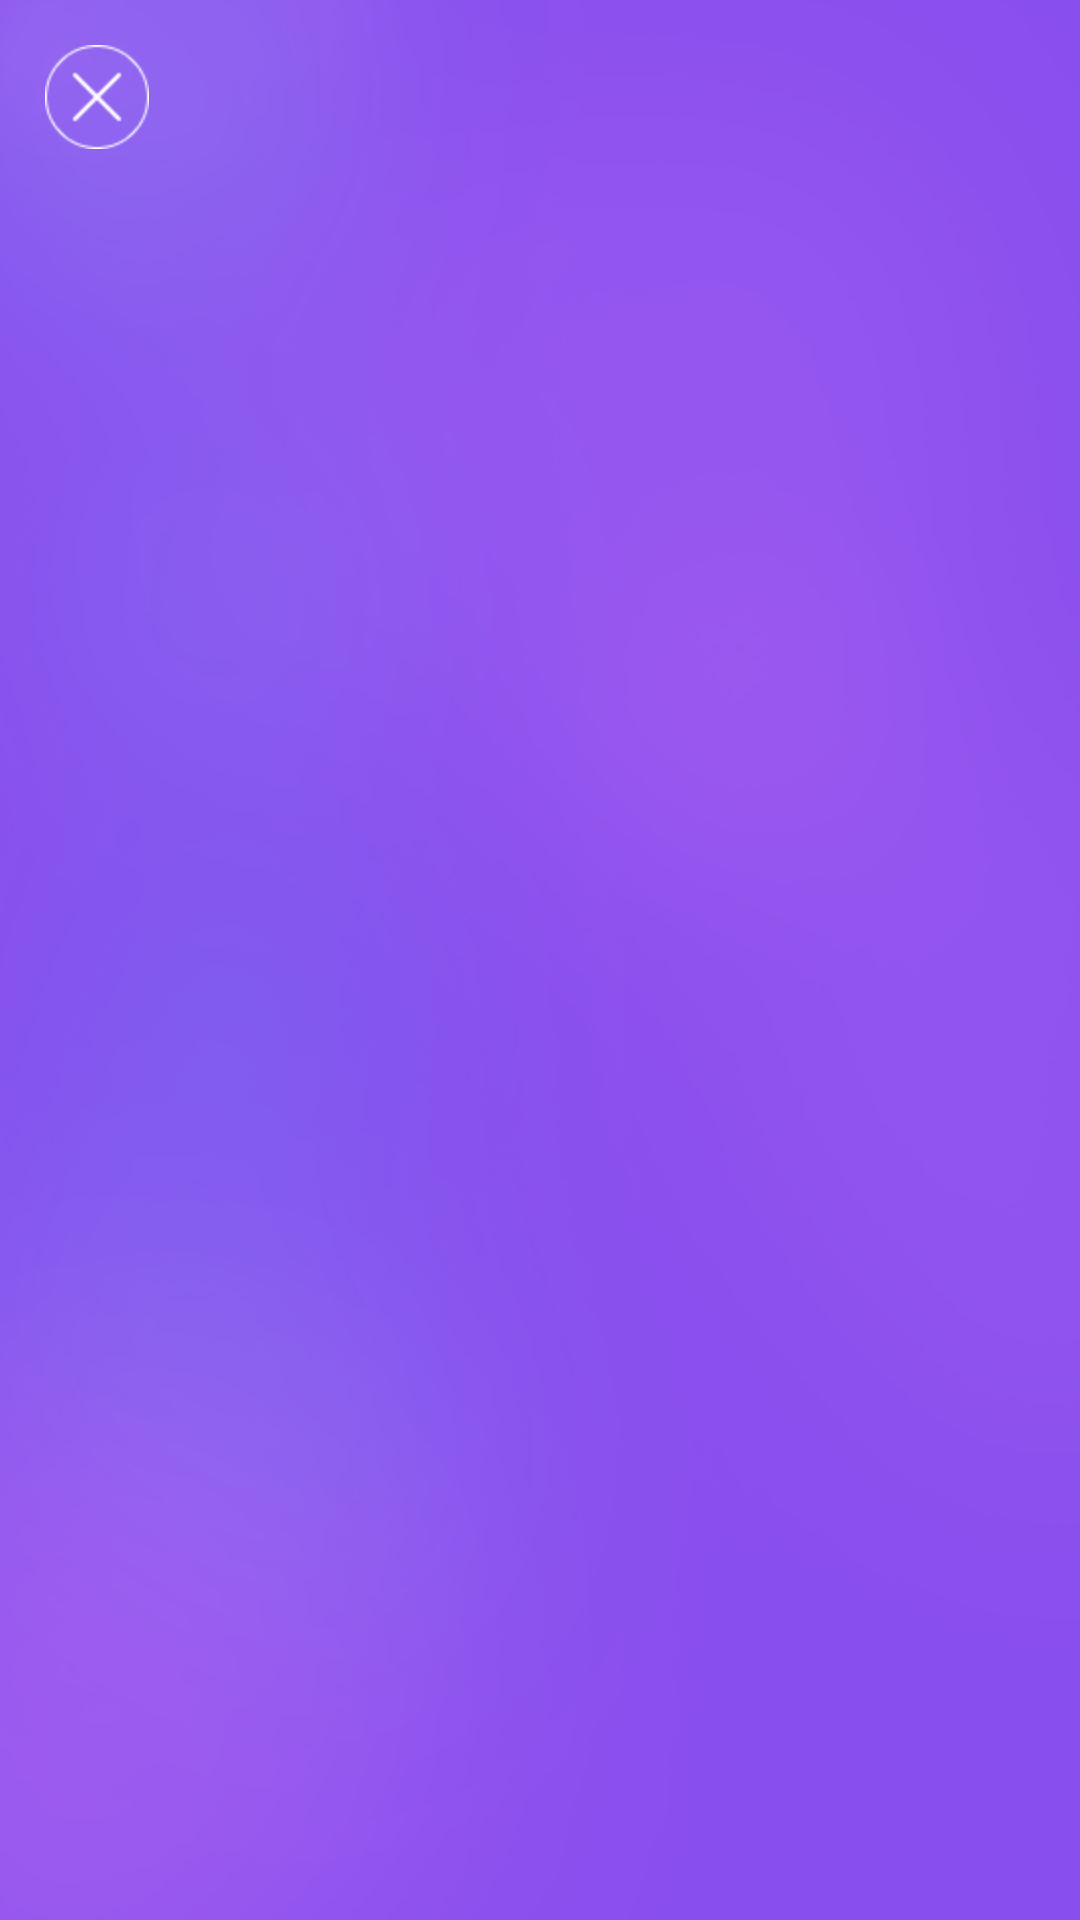

Where icons sit on this 1080 x 1920 app screen, as bbox=(x1, y1, x2, y2):
cancel: bbox=(45, 45, 149, 149)
